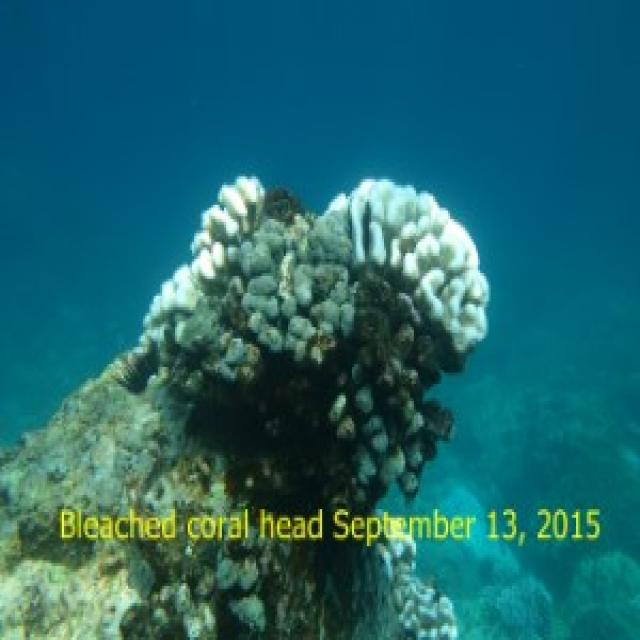Bleached: (317, 180, 487, 371), (135, 177, 261, 371), (353, 541, 458, 638), (170, 177, 248, 303), (251, 271, 278, 348)
